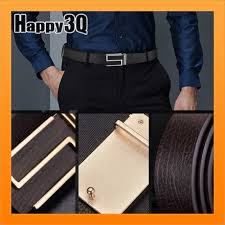F_belt: (58, 43, 163, 69)
